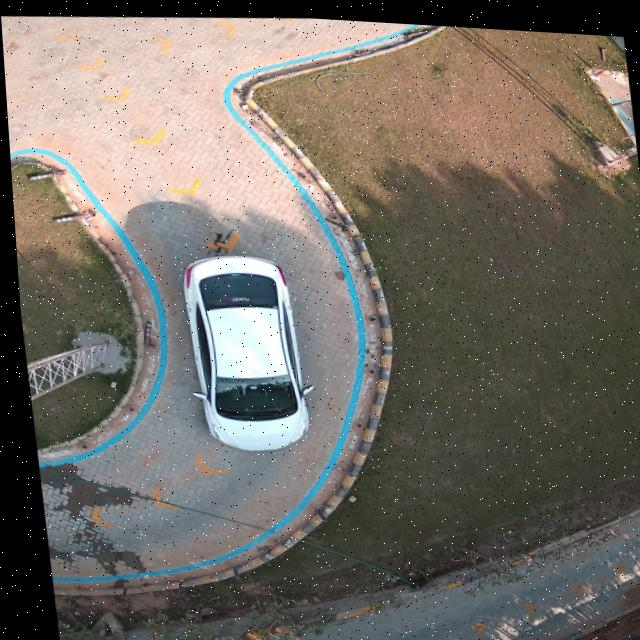car: (178, 253, 307, 448)
